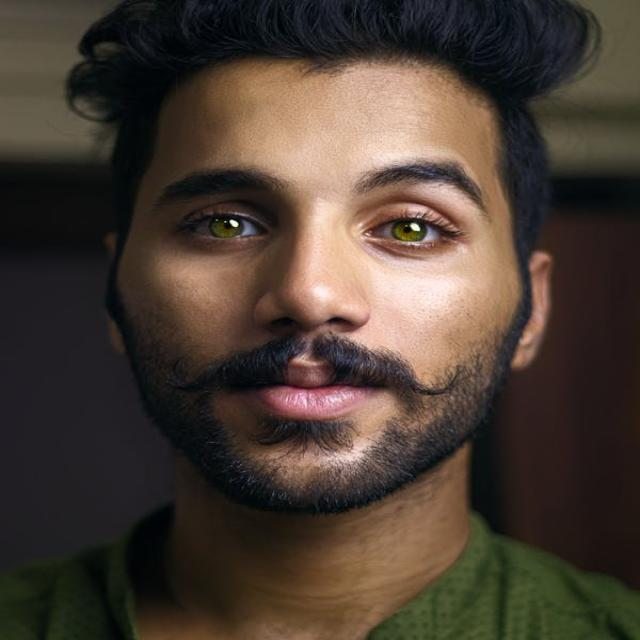no_mask: (104, 18, 554, 532)
